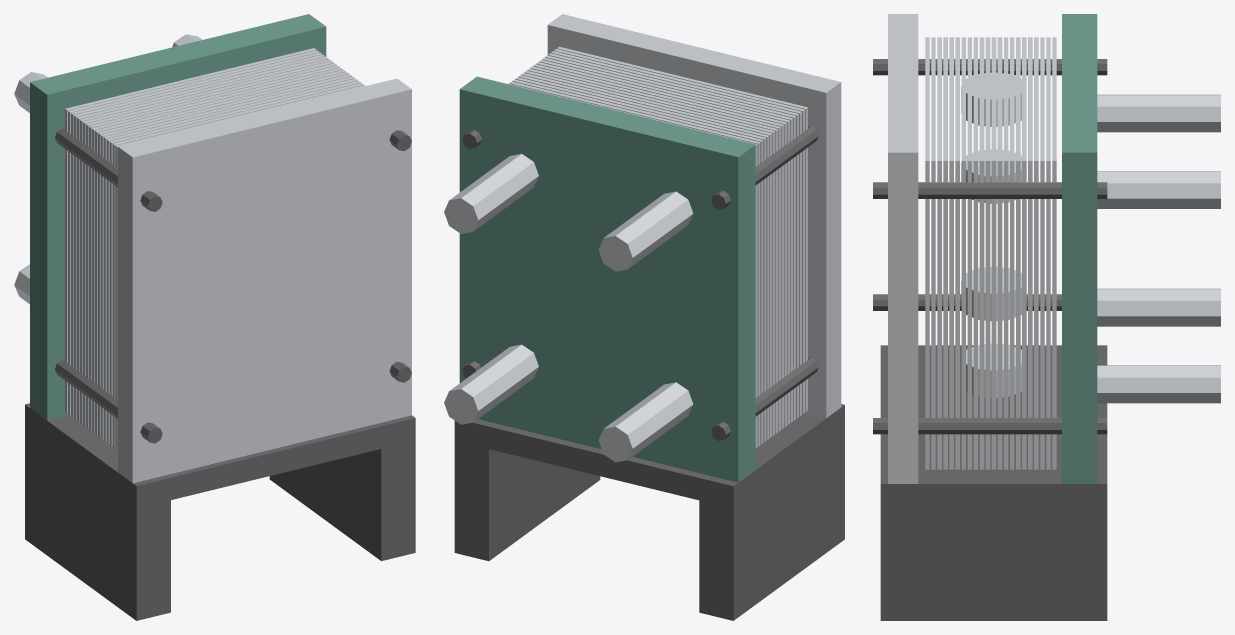
Rendered from distillery-and-bonded-warehouse-heat-exchanger-0a839209__38675.glb.
3 views of the same model, side by side, from view 1: azimuth 30°, elevation 25°; view 2: azimuth 150°, elevation 25°; view 3: azimuth 270°, elevation 25° (orthographic).
Visible parts, largest first — view 1: heat-exchanger-steel, heat-exchanger-iron, heat-exchanger-paint; view 2: heat-exchanger-paint, heat-exchanger-steel, heat-exchanger-iron; view 3: heat-exchanger-steel, heat-exchanger-iron, heat-exchanger-paint.
Boxes of the visible parts, <box> form: heat-exchanger-steel: <box>14,34,411,483</box>; heat-exchanger-iron: <box>25,128,415,620</box>; heat-exchanger-paint: <box>30,14,326,420</box>; heat-exchanger-paint: <box>459,76,755,482</box>; heat-exchanger-steel: <box>444,14,841,462</box>; heat-exchanger-iron: <box>454,126,844,620</box>; heat-exchanger-steel: <box>888,14,1220,483</box>; heat-exchanger-iron: <box>873,59,1107,620</box>; heat-exchanger-paint: <box>1062,14,1097,483</box>.
Size of the model in its own units: 1.3 by 2.05 by 1.38.
